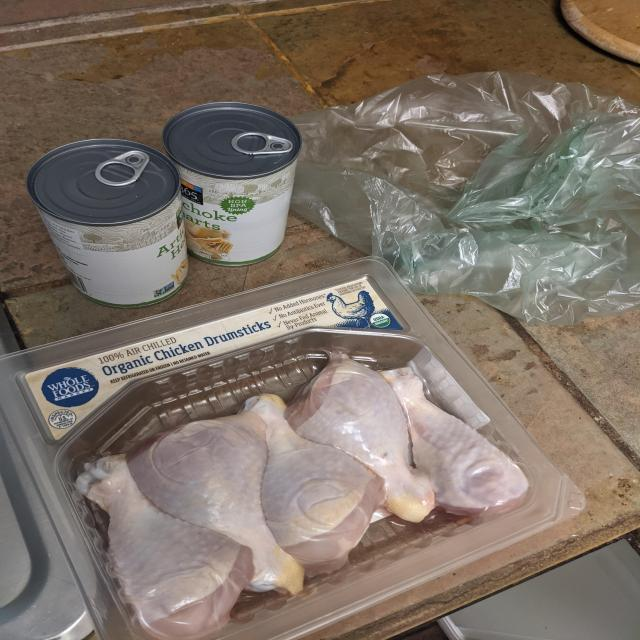litter: (1, 255, 585, 639), (288, 74, 639, 315), (27, 139, 193, 305), (167, 108, 296, 262)
